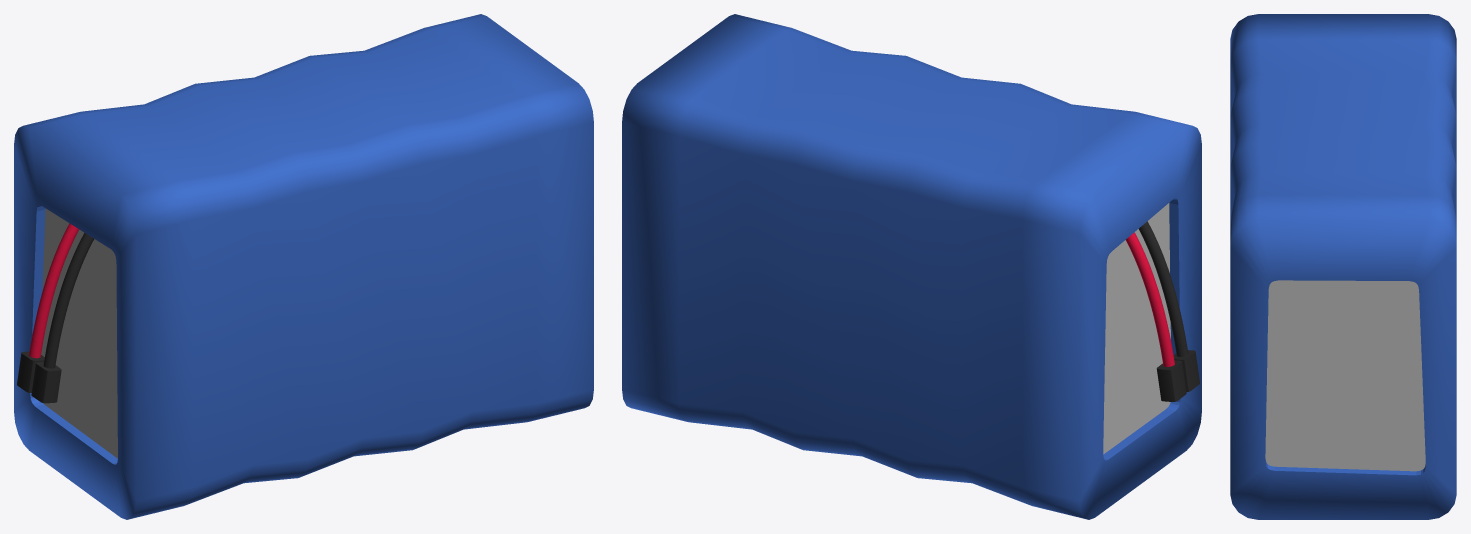
Rendered from FPVBattery.fbx.
The picture shows the model from 3 angles, left to right: view 1: azimuth 30°, elevation 25°; view 2: azimuth 150°, elevation 25°; view 3: azimuth 270°, elevation 25°; orthographic projection. The views are drawn at different scales.
Visible parts, largest first — view 1: Bake; view 2: Bake; view 3: Bake.
Boxes of the visible parts, x1,y1,x2,y2 form: Bake: (14,14,593,519); Bake: (622,14,1201,519); Bake: (1230,14,1456,519).
Bounding box in the file's own units: 29.28 × 17.85 × 12.26.
